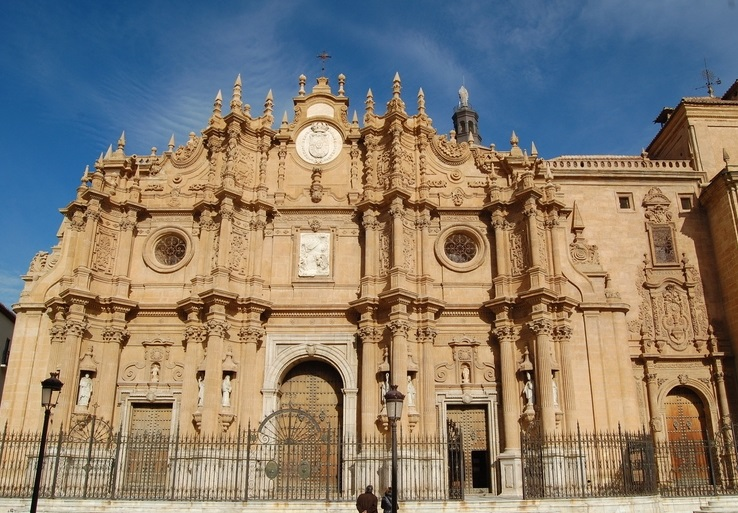arco-medio-punto: (259, 340, 360, 397), (656, 372, 719, 414)
ojo-de-buey: (431, 222, 489, 275), (140, 223, 196, 274)
vano-adintelado: (108, 389, 180, 499), (432, 391, 502, 500)
